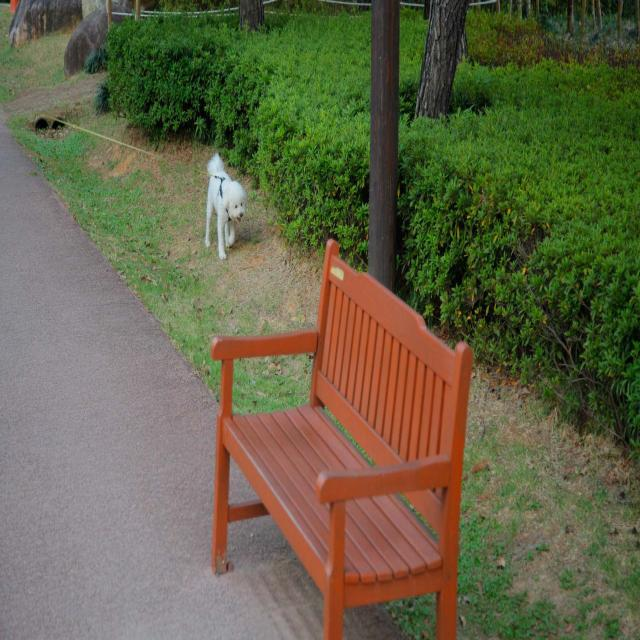Dog: (205, 152, 245, 260)
